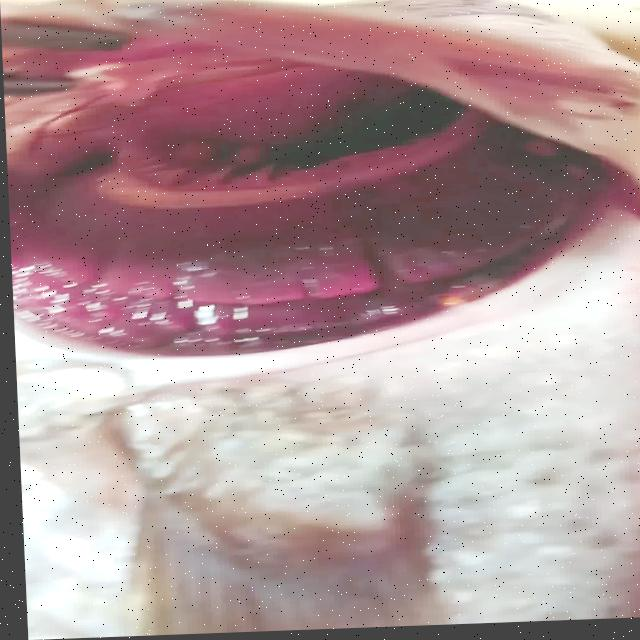Fresh: (4, 94, 636, 364)
